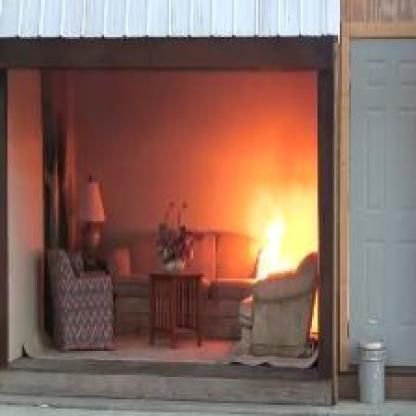fire: (246, 178, 316, 288)
